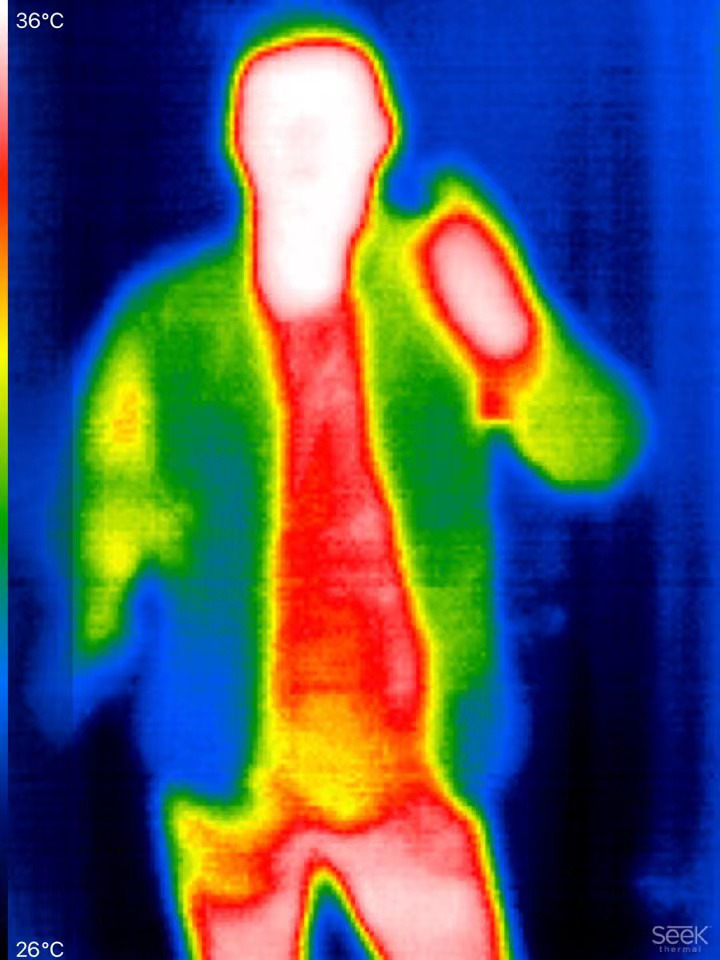Near: (60, 23, 640, 959)
